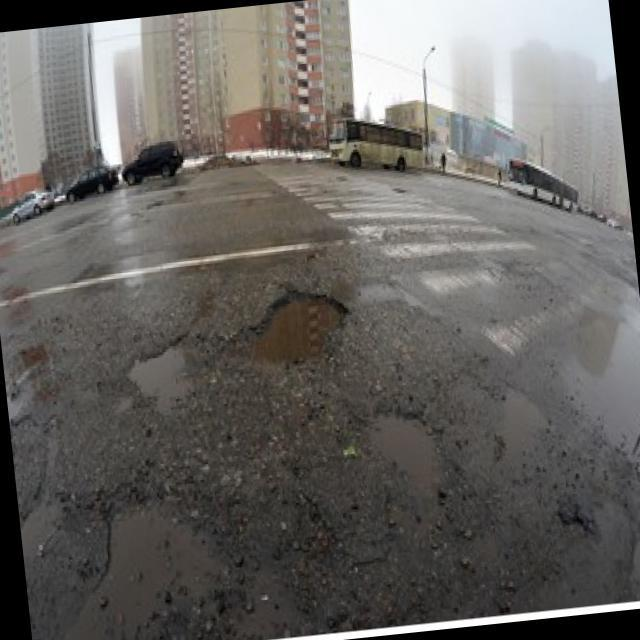Pothole: (245, 282, 353, 372), (368, 402, 448, 504), (123, 339, 198, 416)
